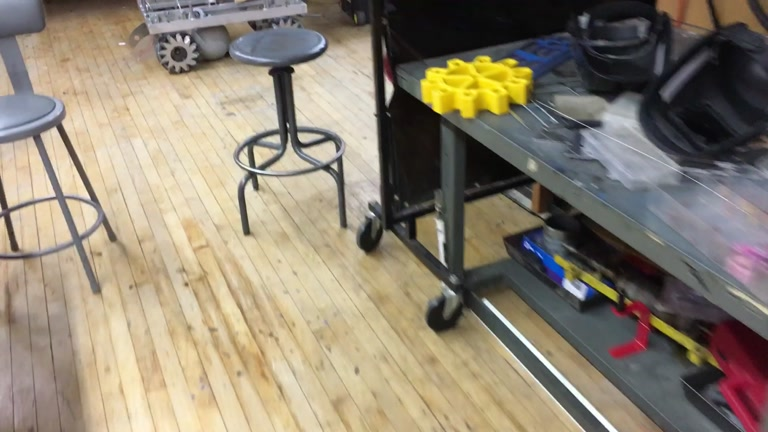gear: (420, 54, 533, 119)
